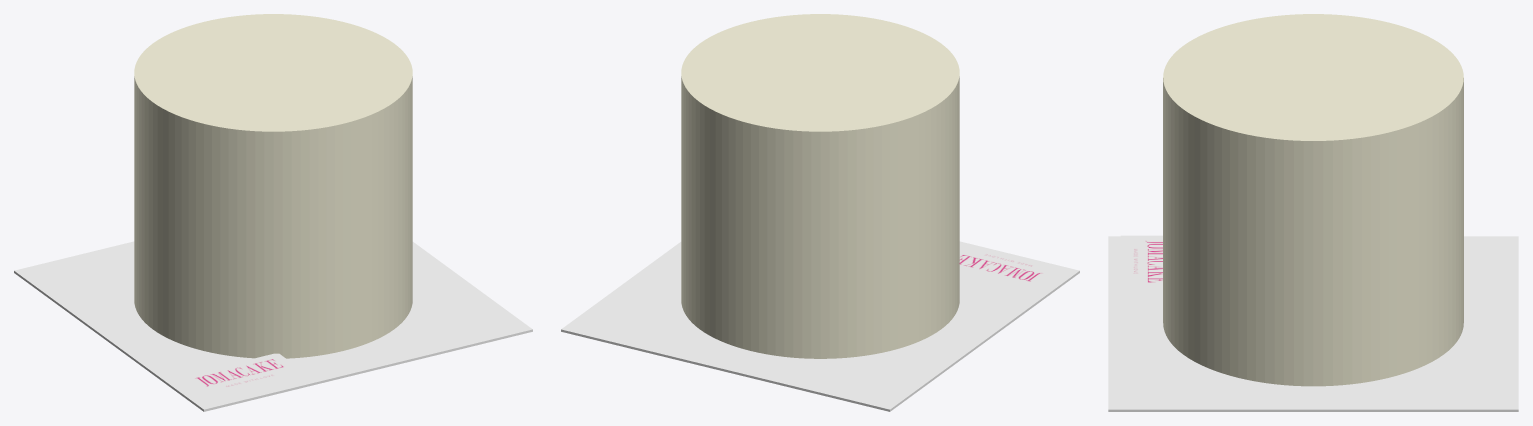
File: cake_4in_layers3_v43.glb
The picture shows the model from 3 angles, left to right: view 1: azimuth 30°, elevation 25°; view 2: azimuth 150°, elevation 25°; view 3: azimuth 270°, elevation 25°; orthographic projection. The views are drawn at different scales.
Parts seen in each view (by area): view 1: Cake, Board, Logo; view 2: Cake, Board, Logo; view 3: Cake, Board, Logo.
Part boxes in pixels (bbox=[...]): Cake: bbox=[134, 14, 412, 358]; Board: bbox=[14, 241, 532, 411]; Logo: bbox=[179, 353, 306, 397]; Cake: bbox=[681, 14, 959, 358]; Board: bbox=[561, 241, 1079, 411]; Logo: bbox=[959, 243, 1063, 287]; Cake: bbox=[1163, 14, 1463, 386]; Board: bbox=[1108, 236, 1518, 411]; Logo: bbox=[1120, 235, 1162, 287].
Bounding box in the file's own units: 0.15 × 0.1 × 0.15.
